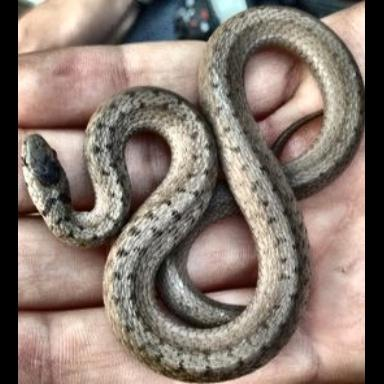snake: (22, 6, 363, 376)
